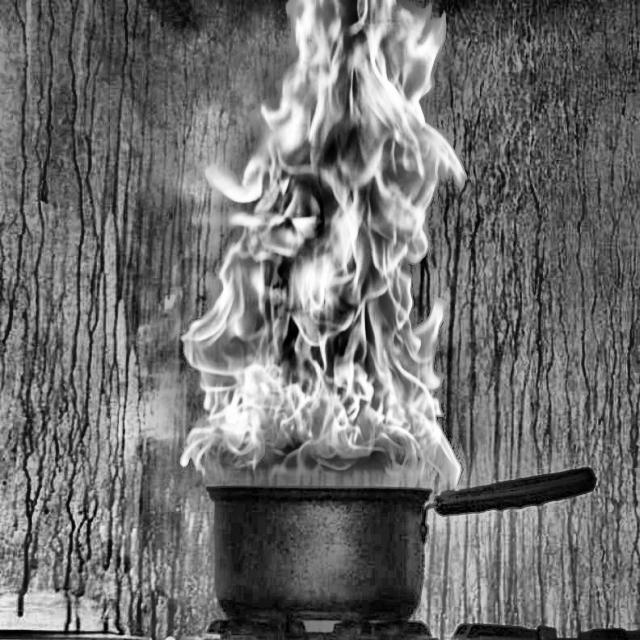fire: (217, 5, 510, 558)
